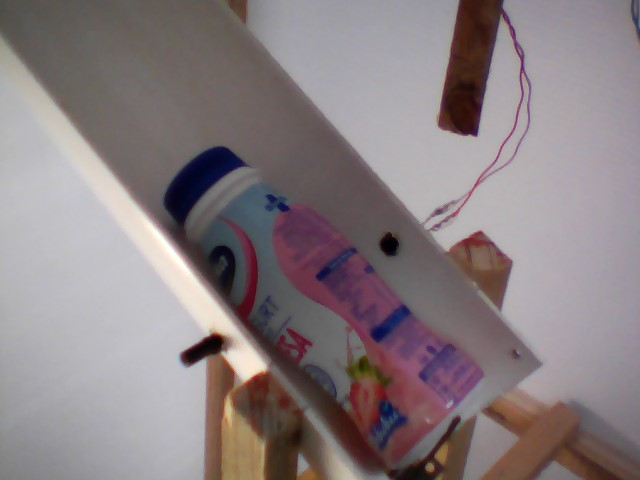plastico: (159, 141, 494, 475)
